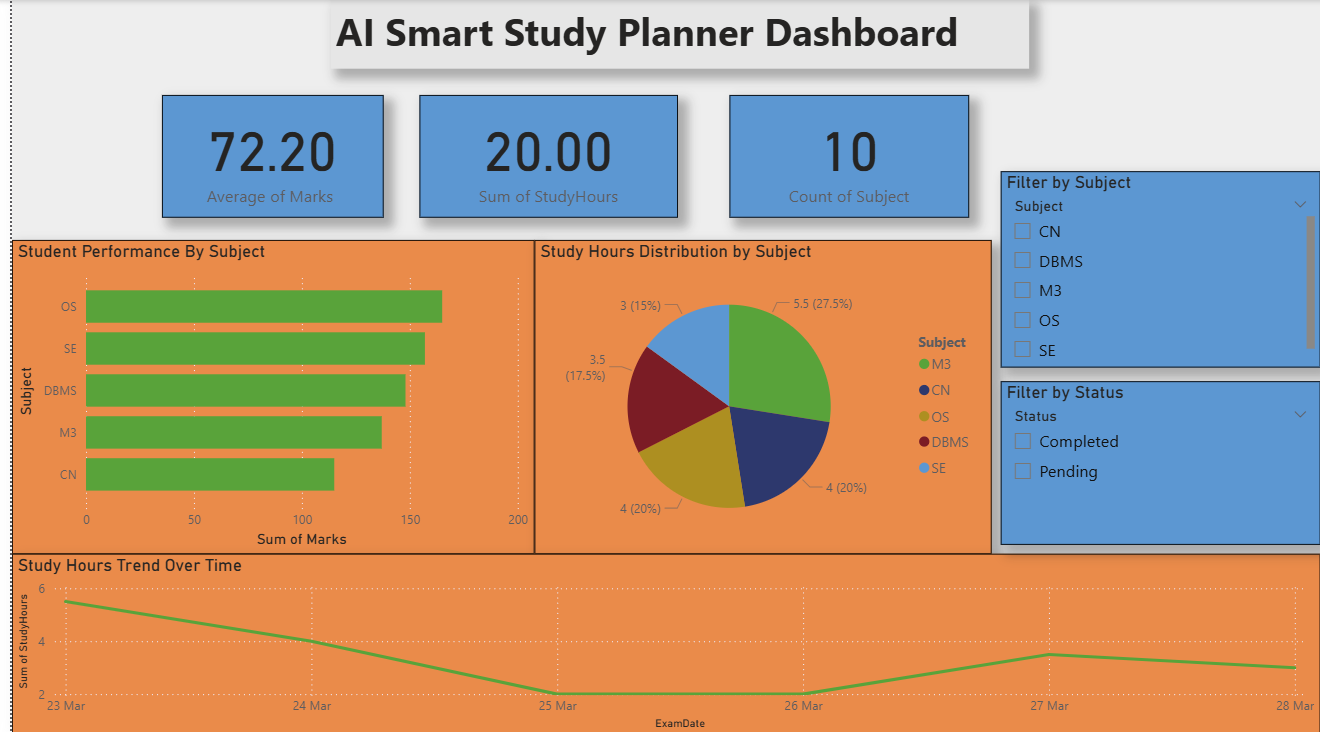

The page's visual inventory and layout, read from the dashboard file:
{"tool":"powerbi","page":{"name":"Page 1","canvas":[1280,720],"ordinal":0},"visuals":[{"type":"clusteredBarChart","title":"Student Performance By Subject","fields":{"Category":["Sheet1.Subject"],"Y":["Sum(Sheet1.Marks )"]},"box":[0,234.8,511.1,306.9],"z":0},{"type":"pieChart","title":"Study Hours Distribution by Subject","fields":{"Category":["Sheet1.Subject"],"Y":["Sum(Sheet1.StudyHours)"]},"box":[511.1,234.8,447.6,306.9],"z":1000},{"type":"lineChart","title":"Study Hours Trend Over Time","fields":{"Y":["Sum(Sheet1.StudyHours)"],"Category":["Sheet1.ExamDate"]},"box":[0,541.7,1280.3,178.5],"z":2000},{"type":"card","fields":{"Values":["Avg(Sheet1.Marks )"]},"box":[146.7,92.9,216.4,119.8],"z":3000},{"type":"card","fields":{"Values":["Sum(Sheet1.StudyHours)"]},"box":[398.6,92.9,253.1,119.8],"z":4000},{"type":"card","fields":{"Values":["CountNonNull(Sheet1.Subject)"]},"box":[701.9,92.9,234.8,119.8],"z":5000},{"type":"slicer","title":"Filter by Subject","fields":{"Values":["Sheet1.Subject"]},"box":[967.3,167.5,313,192],"z":6000},{"type":"slicer","title":"Filter by Status","fields":{"Values":["Sheet1.Status"]},"box":[967.3,373,313,160.2],"z":7000},{"type":"textbox","box":[311.8,0,683.6,67.3],"z":8000}]}

Visuals, with their boxes in screenshot pixels (x1, y1, x2, y2), scaled from the page's 1280x720 canvas onto the 1320x732 screenshot:
"Student Performance By Subject" clusteredBarChart: <region>0, 239, 527, 551</region>
"Study Hours Distribution by Subject" pieChart: <region>527, 239, 989, 551</region>
"Study Hours Trend Over Time" lineChart: <region>0, 551, 1319, 731</region>
card - Avg(Sheet1.Marks ): <region>151, 94, 374, 216</region>
card - Sum(Sheet1.StudyHours): <region>411, 94, 672, 216</region>
card - CountNonNull(Sheet1.Subject): <region>724, 94, 966, 216</region>
"Filter by Subject" slicer: <region>998, 170, 1319, 365</region>
"Filter by Status" slicer: <region>998, 379, 1319, 542</region>
textbox: <region>322, 0, 1027, 68</region>
